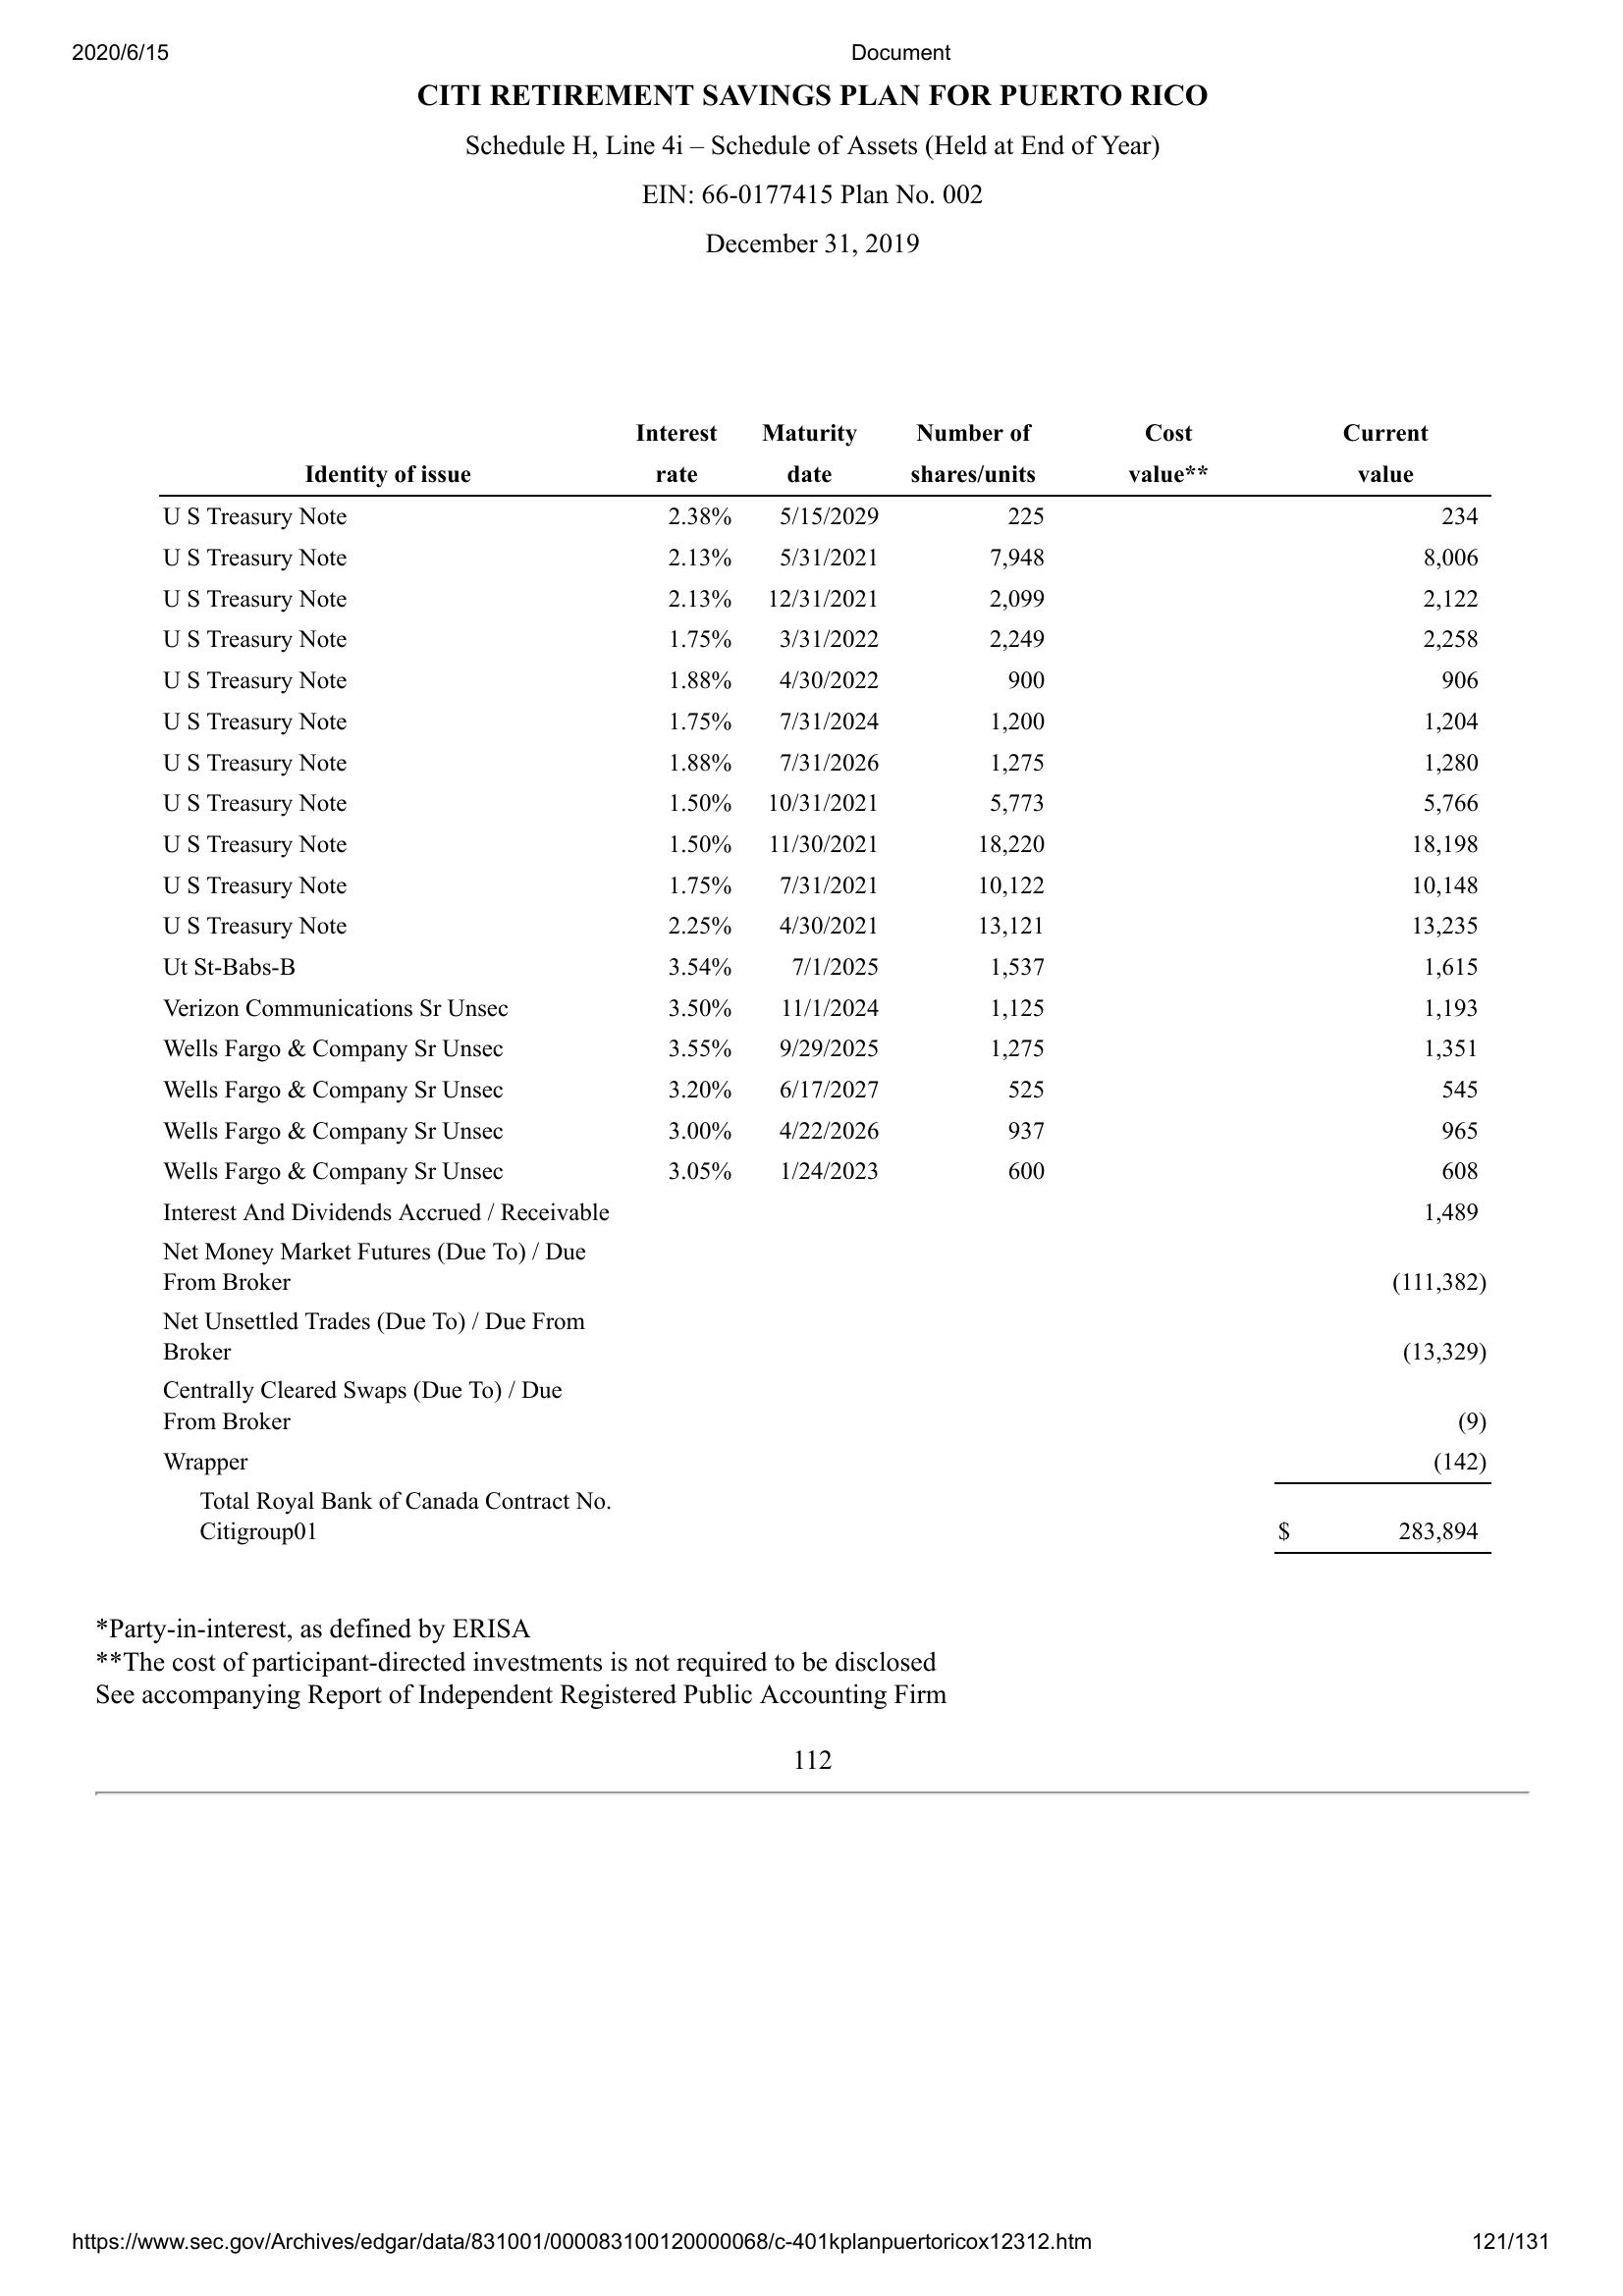table: (146, 416, 1491, 1568)
